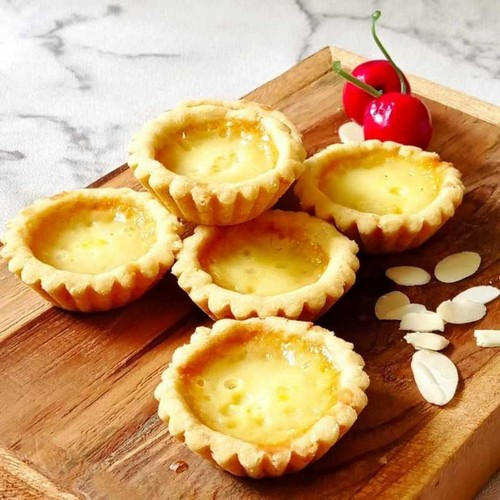pie susu: (146, 309, 389, 489), (15, 181, 178, 317), (131, 98, 287, 221), (190, 213, 354, 321), (302, 145, 469, 249)
